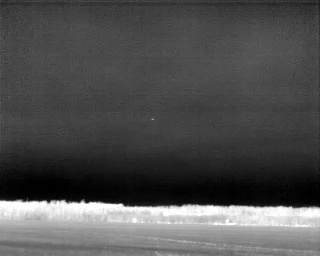HELICOPTER: (150, 116, 156, 122)
